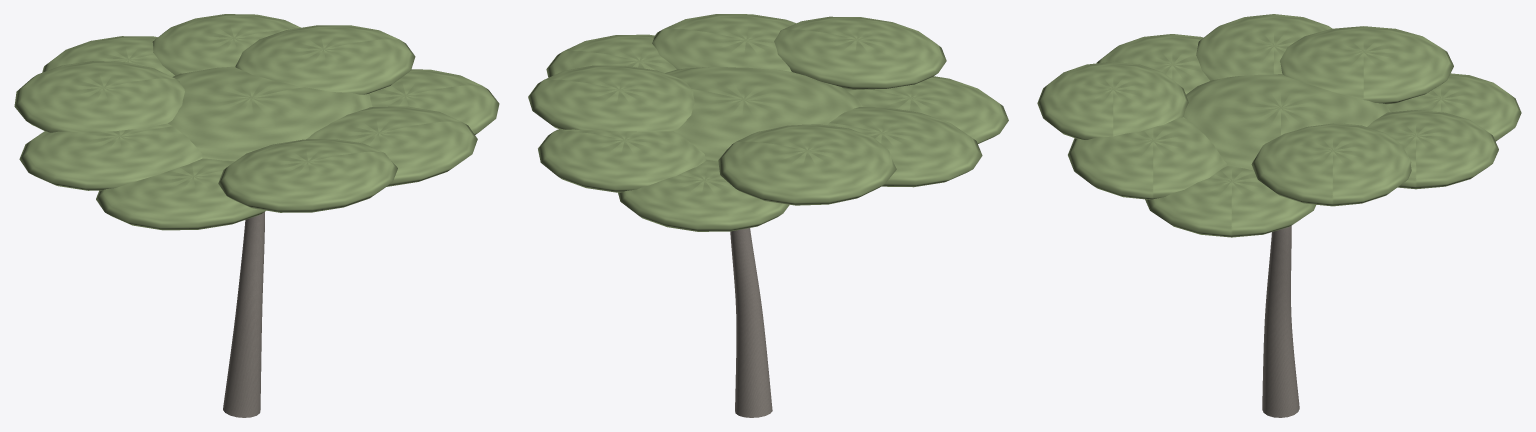
Rendered from exotic-wildlife-hd-umbrella-acacia-850a62bb.glb.
3 renders of one model, left to right at view 1: azimuth 30°, elevation 25°; view 2: azimuth 150°, elevation 25°; view 3: azimuth 270°, elevation 25°, orthographic.
Visible parts, largest first — view 1: umbrella-acacia; view 2: umbrella-acacia; view 3: umbrella-acacia.
Boxes of the visible parts, box(x1,y1,x2,y2) form: umbrella-acacia: box(14, 14, 499, 417); umbrella-acacia: box(528, 14, 1008, 417); umbrella-acacia: box(1037, 14, 1521, 417).
Size of the model in its own units: 9.04 by 6.22 by 8.76.
Materials: 2 (2 with a texture image).
